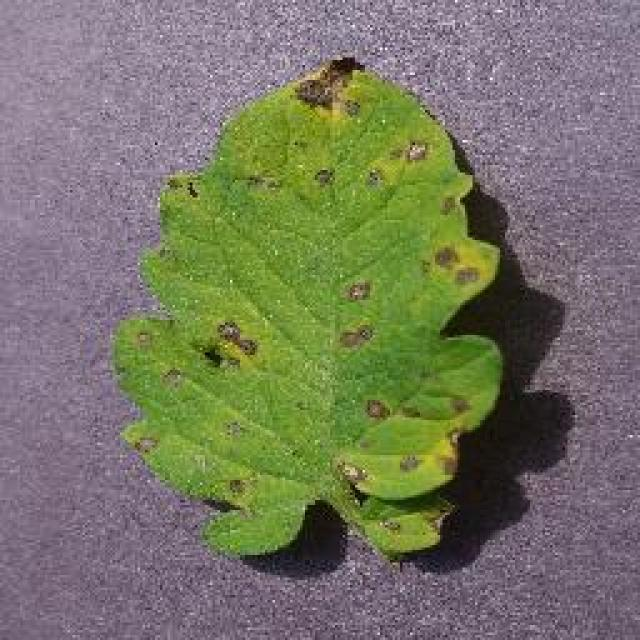Tomato Septoria spot leaf: (112, 55, 504, 560)
